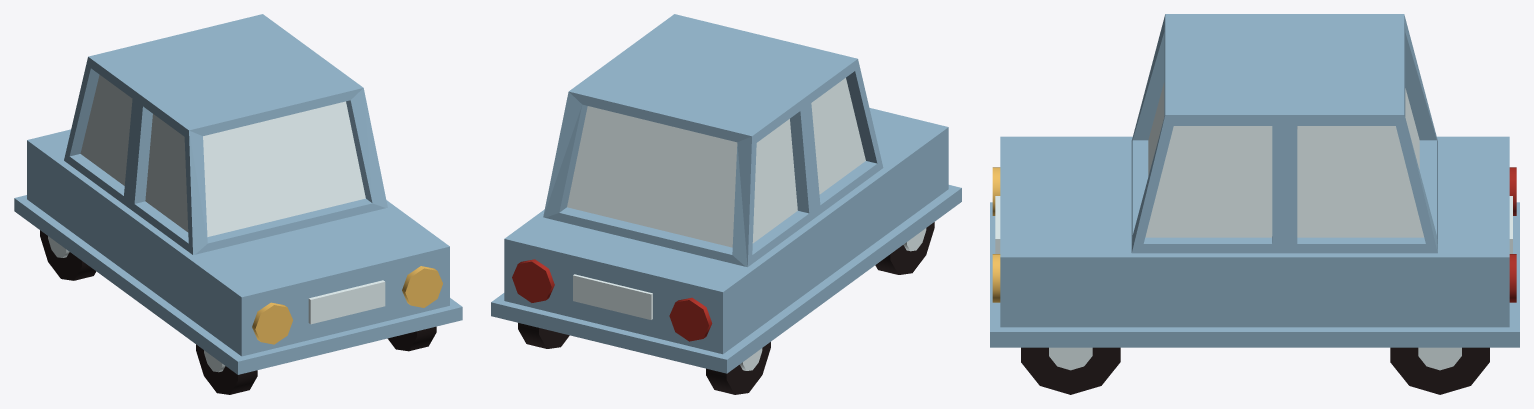
The model's file is 52_prop_car.FBX.
The picture shows the model from 3 angles, left to right: view 1: azimuth 30°, elevation 25°; view 2: azimuth 150°, elevation 25°; view 3: azimuth 270°, elevation 25°; orthographic projection. The views are drawn at different scales.
Visible parts, largest first — view 1: prop_car; view 2: prop_car; view 3: prop_car.
Boxes of the visible parts, x1,y1,x2,y2 form: prop_car: [14, 14, 462, 394]; prop_car: [491, 14, 961, 394]; prop_car: [990, 14, 1519, 394].
Bounding box in the file's own units: 11.24 × 11.02 × 19.38.
